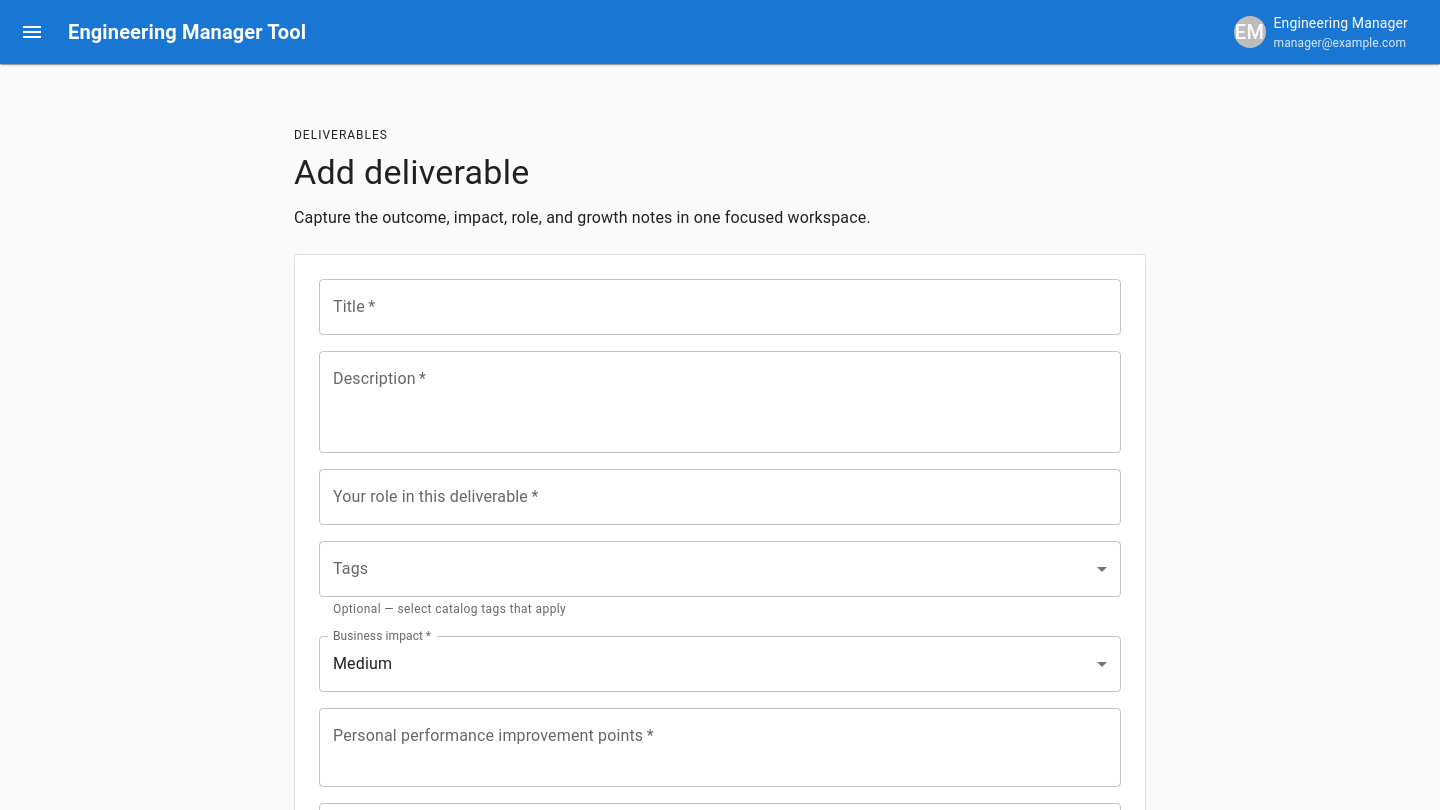
it: US1 deliverable create validation › enables save when required fields are filled and system tags are empty
Type "API redesign" into the field labelled "Title" at (720, 307), box top-left (319, 279), bottom-right (1121, 335)
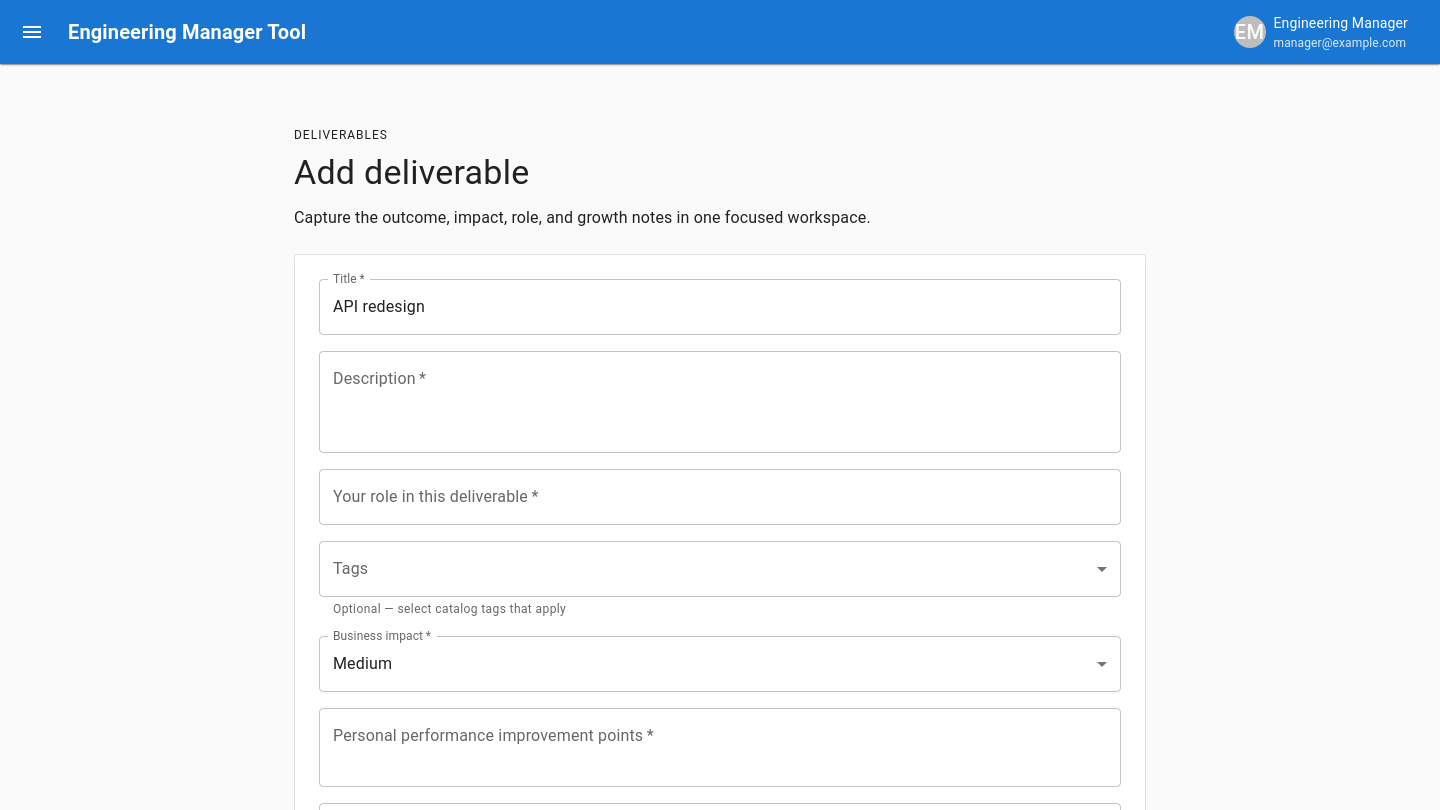
Type "Shipped new API" into the text box labelled "Description" at (720, 402), box top-left (333, 367), bottom-right (1107, 436)
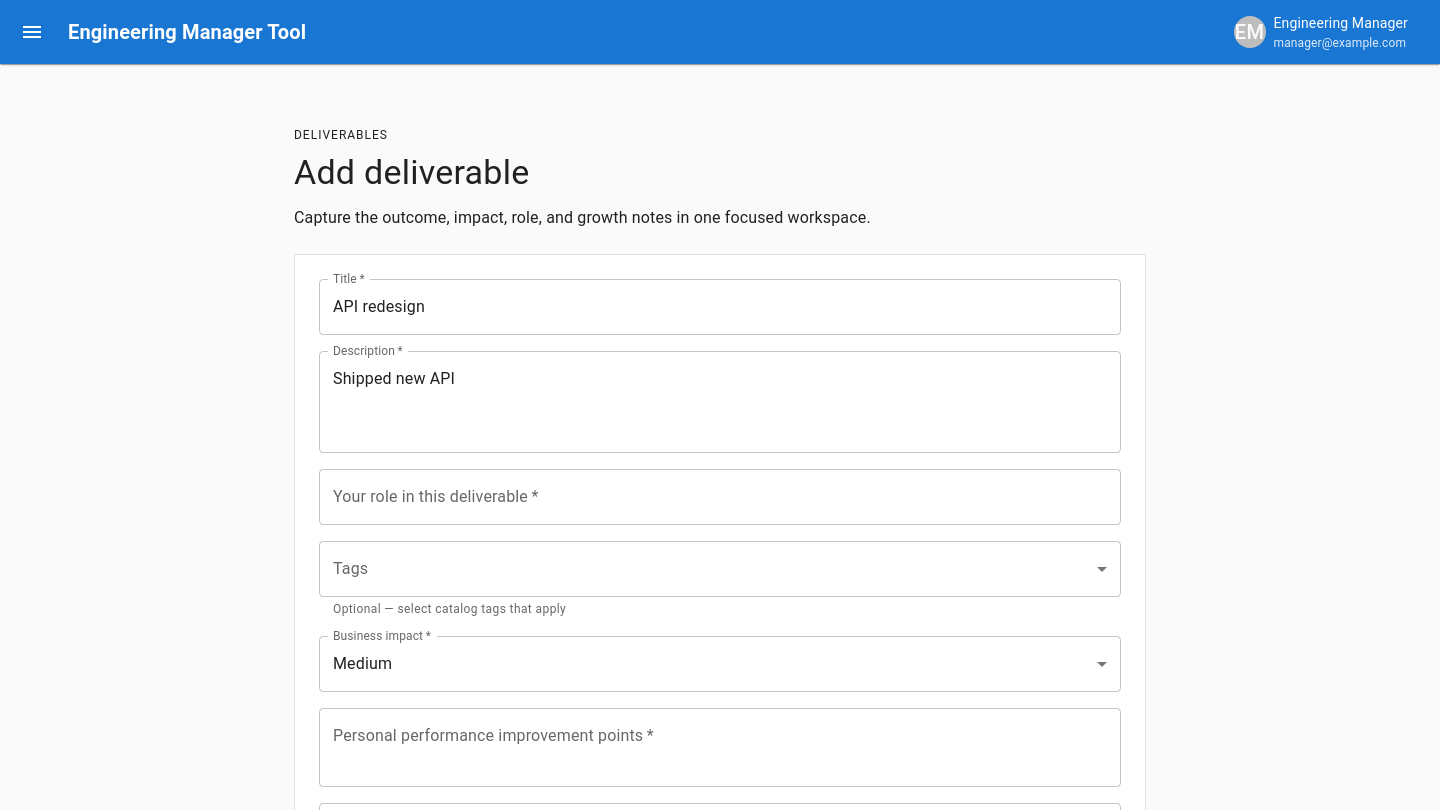
Type "Tech lead" into the field labelled "Your role in this deliverable" at (720, 497), box top-left (319, 469), bottom-right (1121, 525)
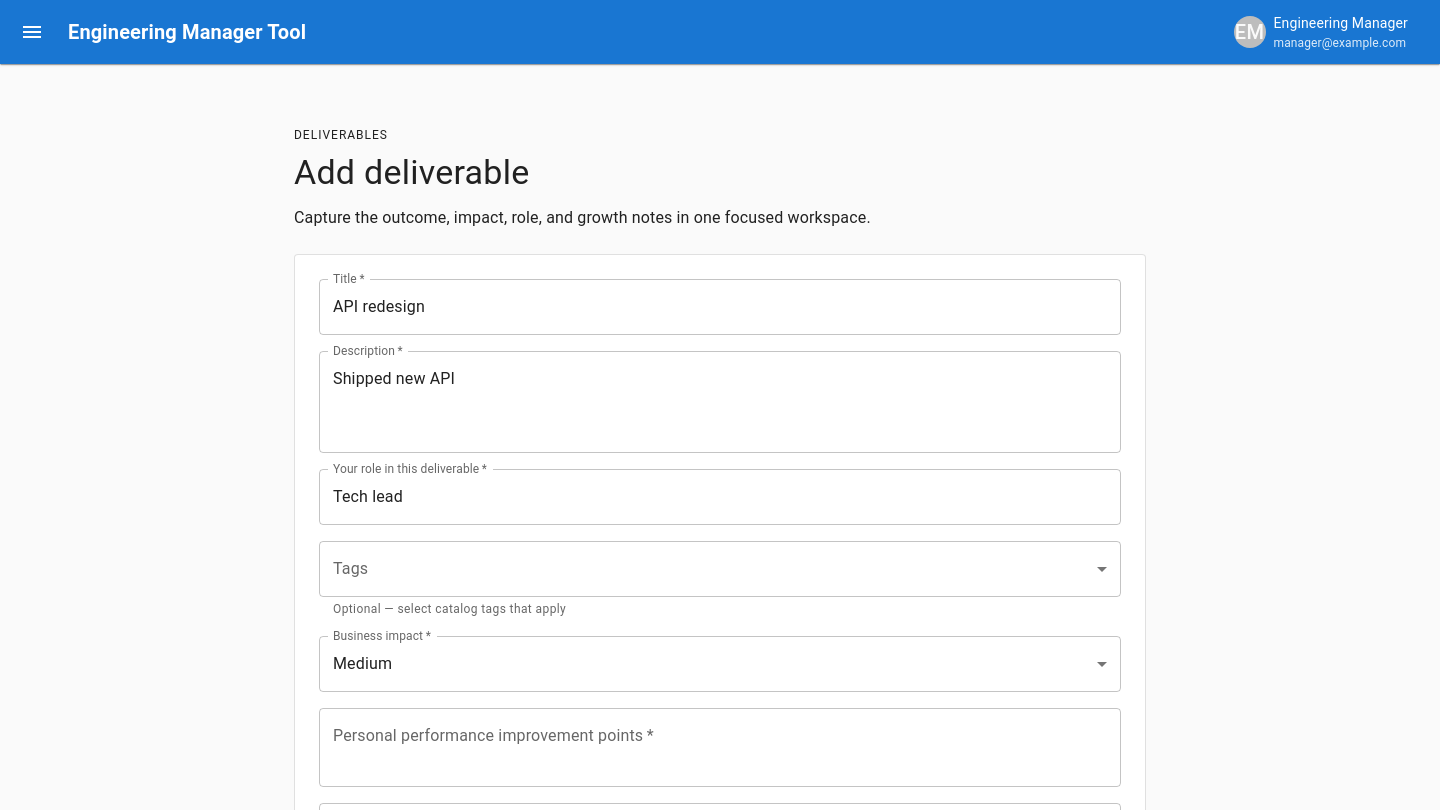
Type "Write more docs" into the text box labelled "Personal performance improvement points" at (720, 747), box top-left (333, 724), bottom-right (1107, 770)
(page scrolled)
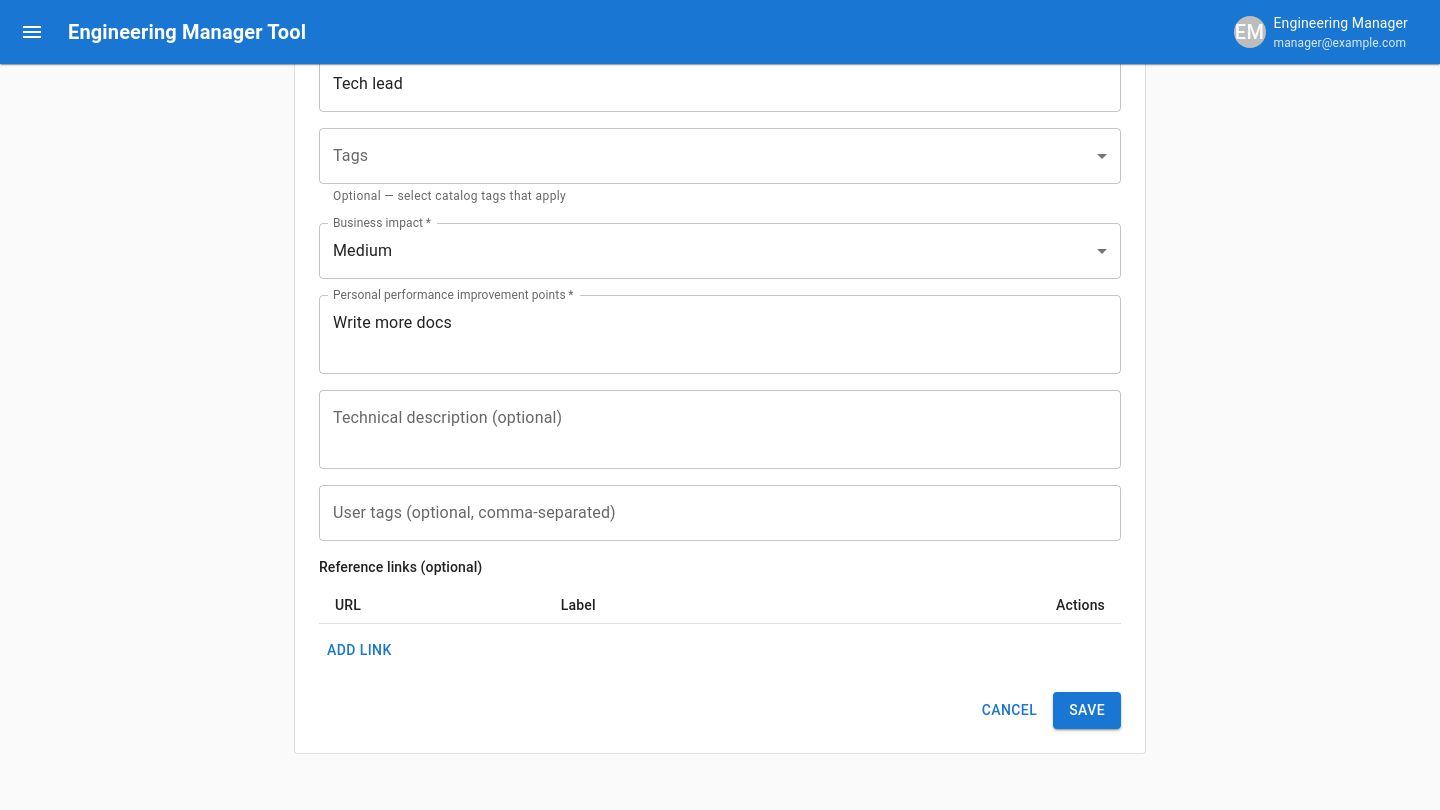
Expected: the button "Save" is enabled, top-left (1053, 692), bottom-right (1121, 729)
